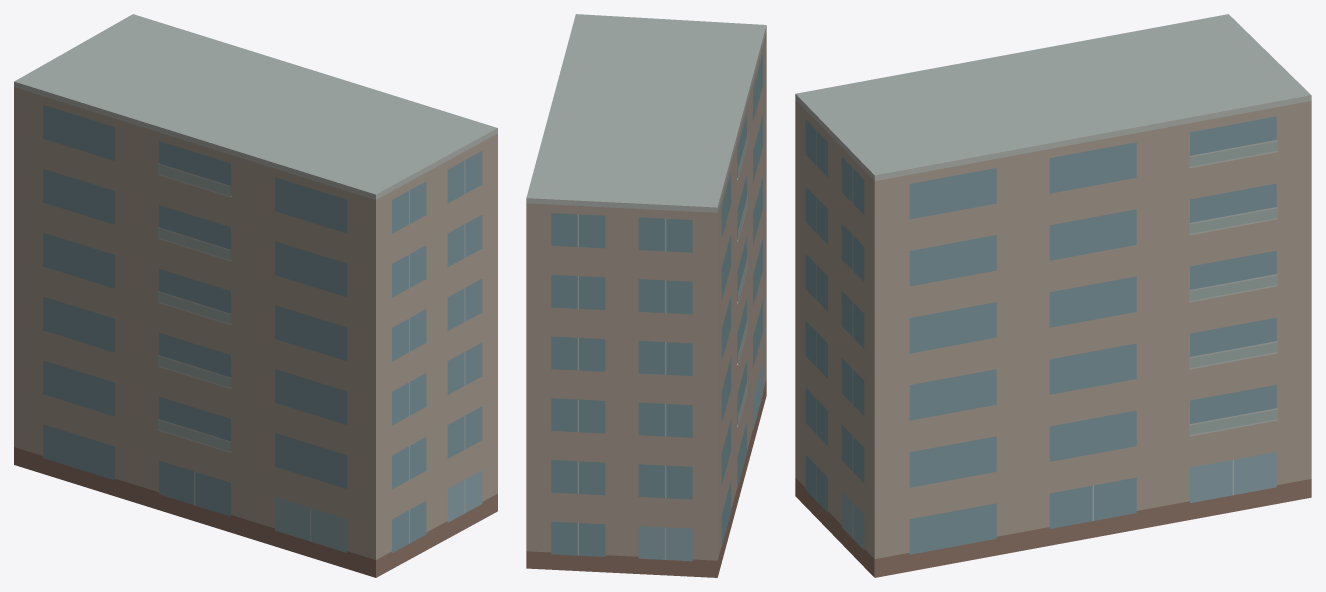
Rendered from survey-upis-32640827.glb.
The picture shows the model from 3 angles, left to right: view 1: azimuth 30°, elevation 25°; view 2: azimuth 150°, elevation 25°; view 3: azimuth 270°, elevation 25°; orthographic projection. The views are drawn at different scales.
Visible parts, largest first — view 1: survey-upis-32640827.tmp; view 2: survey-upis-32640827.tmp; view 3: survey-upis-32640827.tmp.
Part boxes in pixels (<box>): survey-upis-32640827.tmp: <box>14,14,497,577</box>; survey-upis-32640827.tmp: <box>526,14,766,577</box>; survey-upis-32640827.tmp: <box>795,14,1311,577</box>.
Bounding box in the file's own units: 14.81 × 17.2 × 20.
